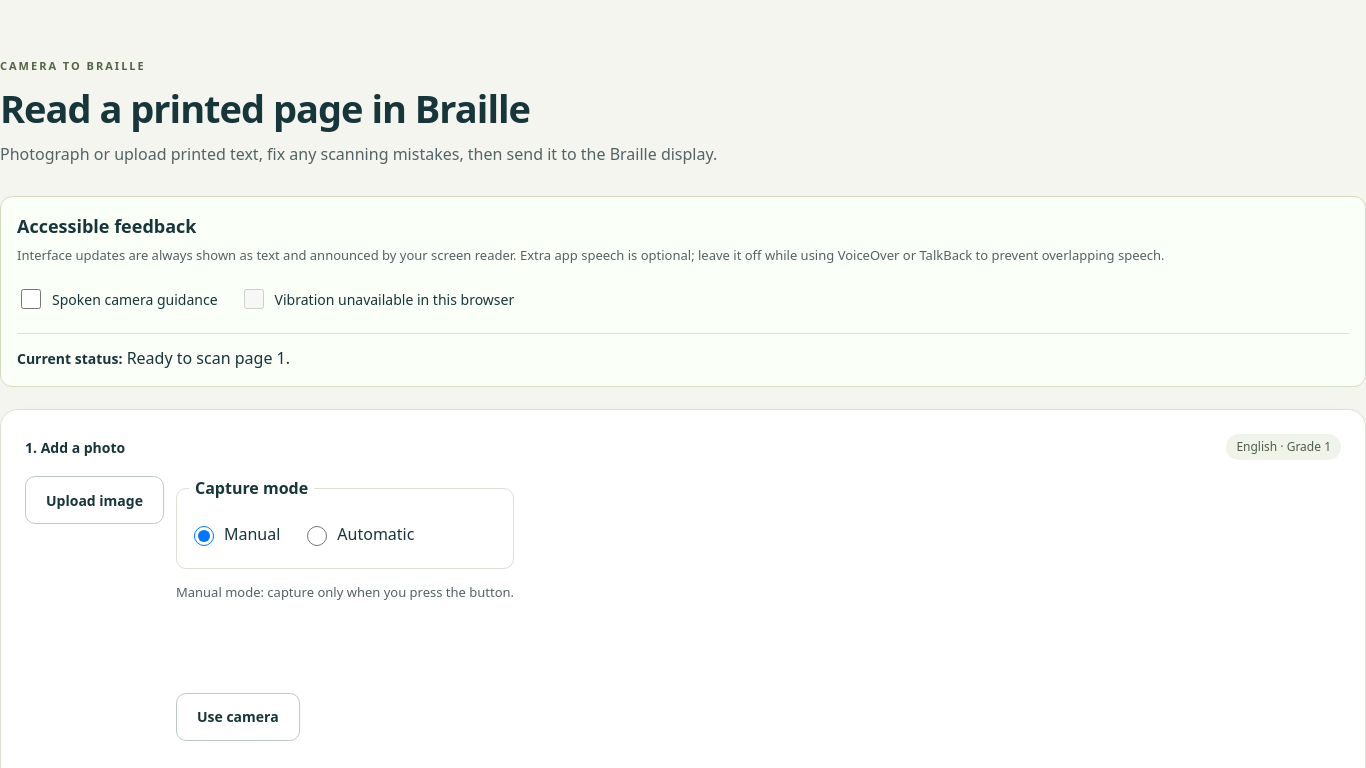
CameraPanel › explains missing camera support
Click the button "Use camera": (238, 717) [176, 693, 300, 741]
(page scrolled)
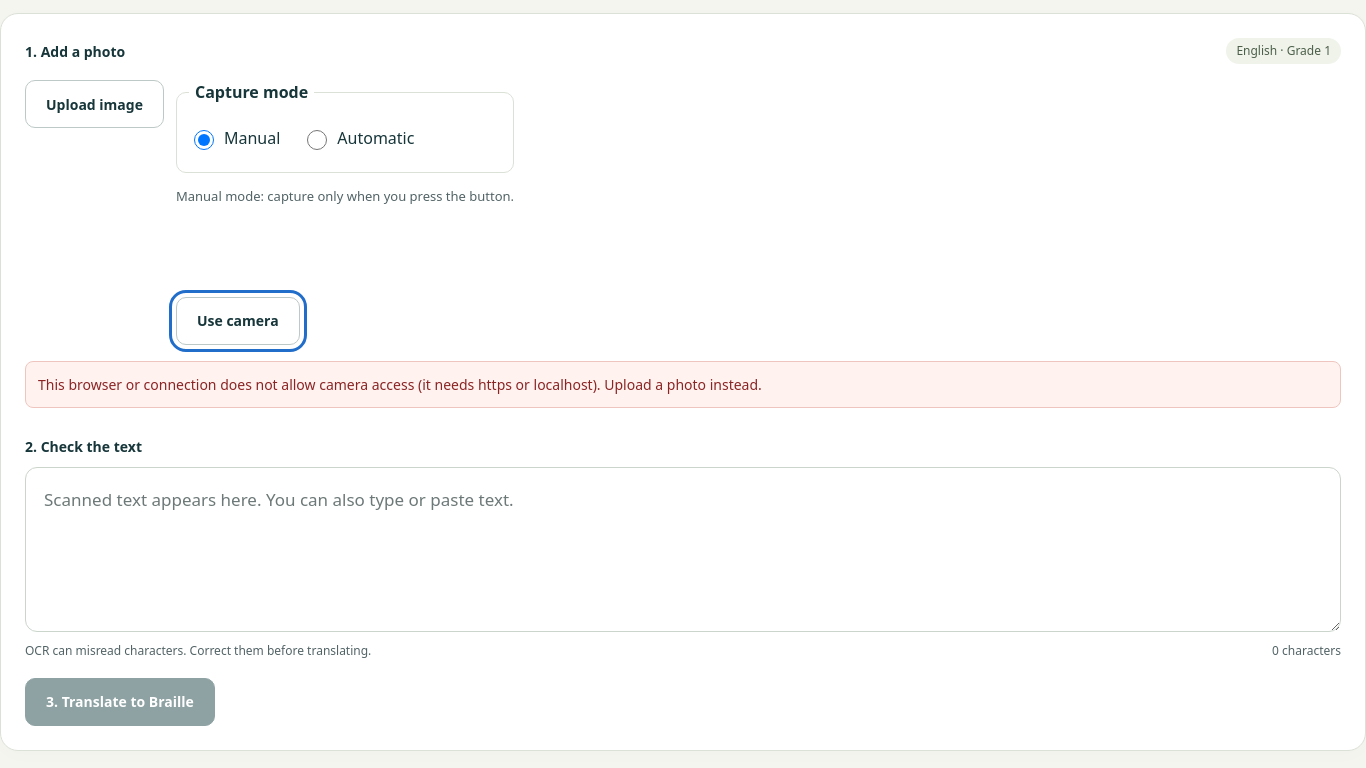
Now the 3rd message shows "does not allow camera access", box [38, 375, 762, 394]
